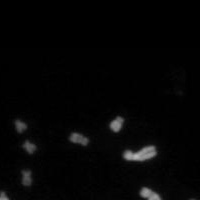chromosome: (122, 145, 157, 161), (139, 186, 162, 200), (69, 132, 88, 146), (110, 116, 124, 133), (22, 140, 35, 154), (14, 119, 26, 133), (22, 170, 32, 186), (0, 191, 9, 200), (184, 199, 200, 200)
